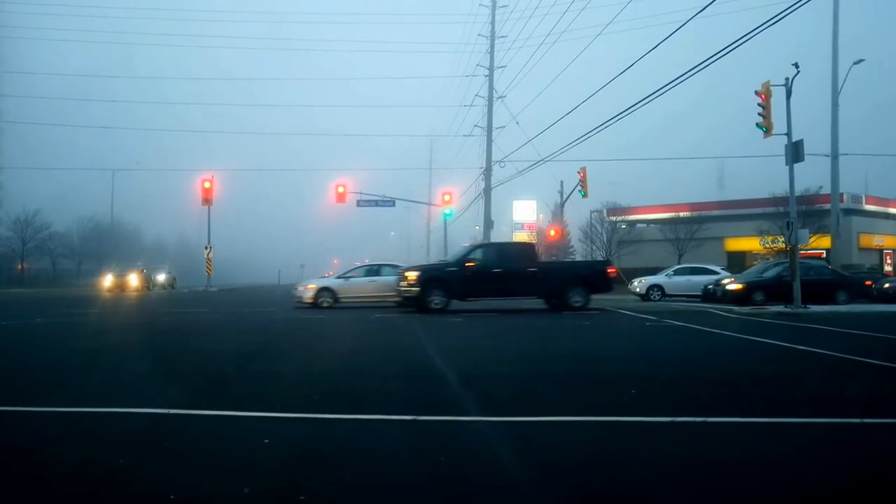car: (394, 237, 618, 314), (709, 254, 875, 308), (291, 260, 442, 308), (627, 261, 752, 304), (103, 261, 154, 292), (135, 263, 178, 290)
